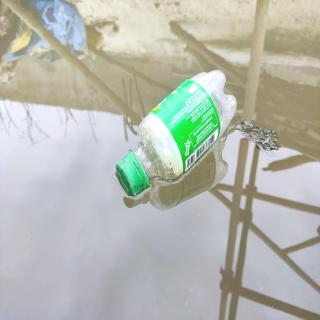bottle: (112, 64, 239, 202)
